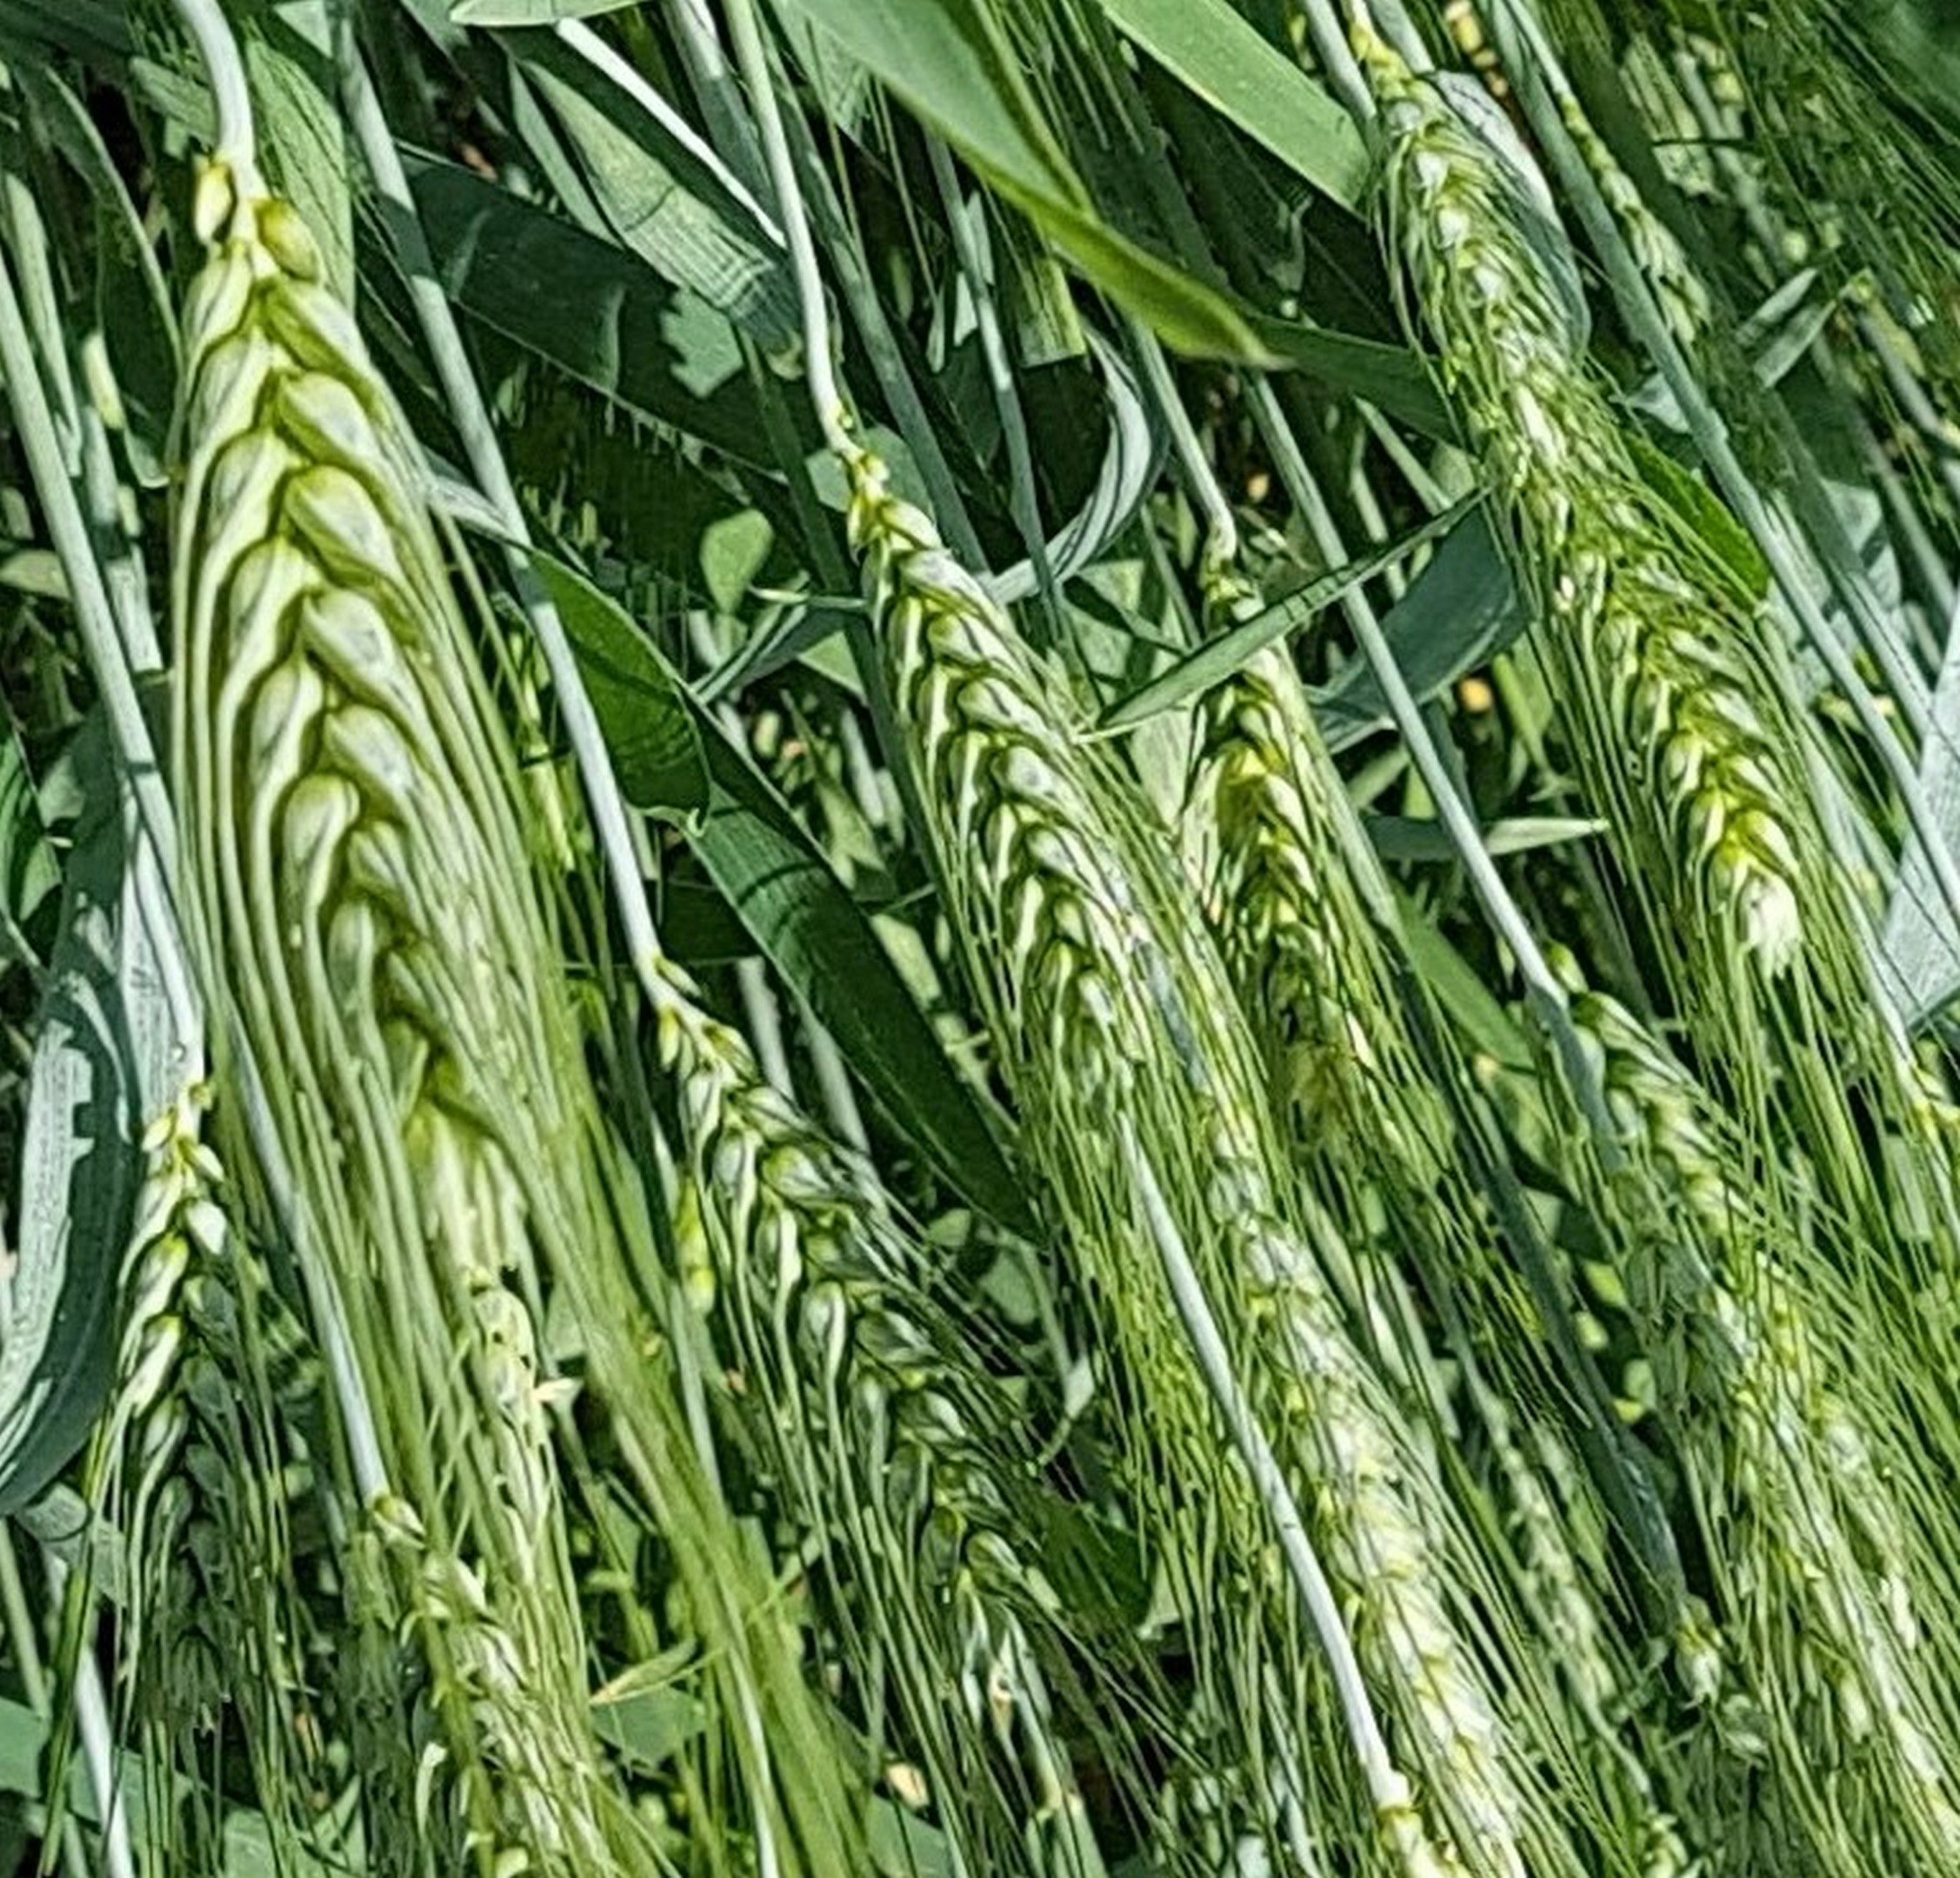Healthy Wheat: (815, 483, 1195, 1071)
